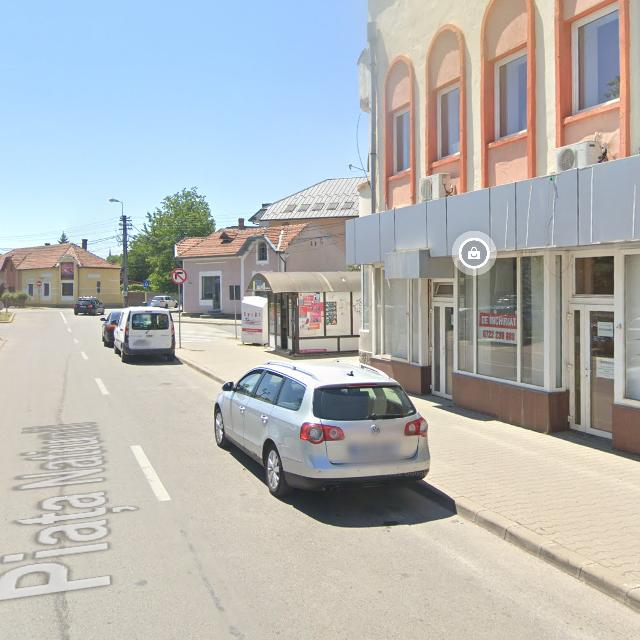forb_right: (172, 268, 188, 284)
